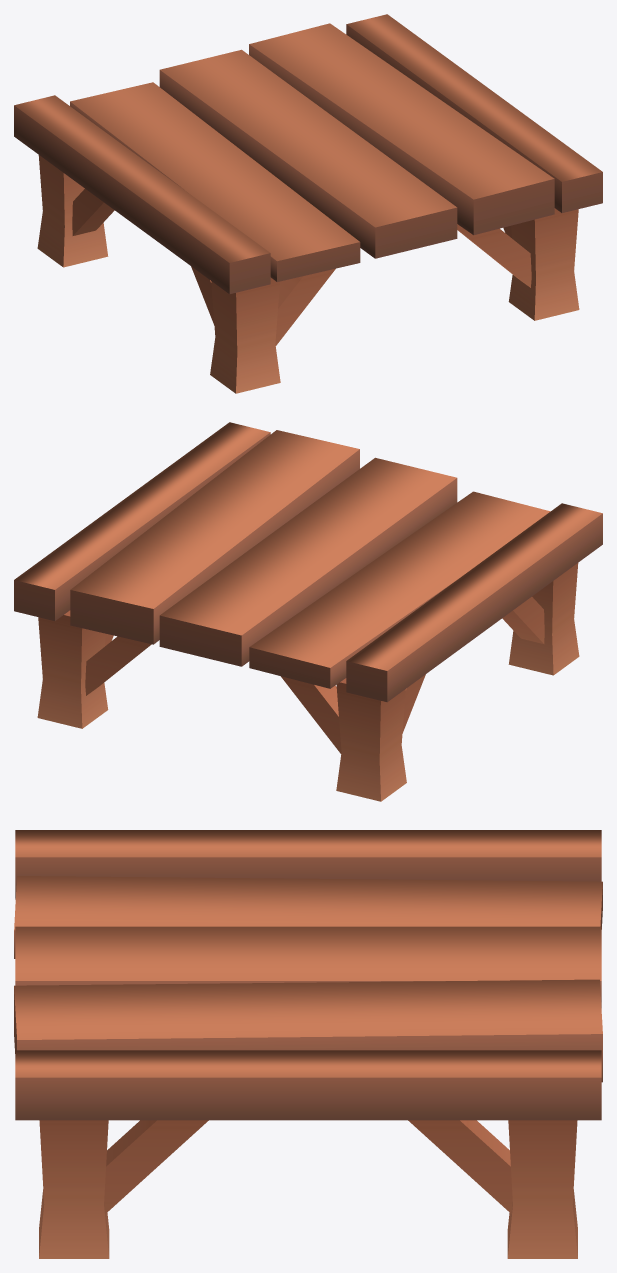
File: kenney-pirate-structure-platform.glb
The picture shows the model from 3 angles, top to bottom: view 1: azimuth 30°, elevation 25°; view 2: azimuth 150°, elevation 25°; view 3: azimuth 270°, elevation 25°; orthographic projection. The views are drawn at different scales.
Visible parts, largest first — view 1: structure-platform; view 2: structure-platform; view 3: structure-platform.
Boxes of the visible parts, x1,y1,x2,y2 form: structure-platform: (14,14,602,393); structure-platform: (14,422,602,801); structure-platform: (14,830,602,1258).
Bounding box in the file's own units: 2.5 × 0.9279 × 2.51.
Materials: 1 (1 with a texture image).
